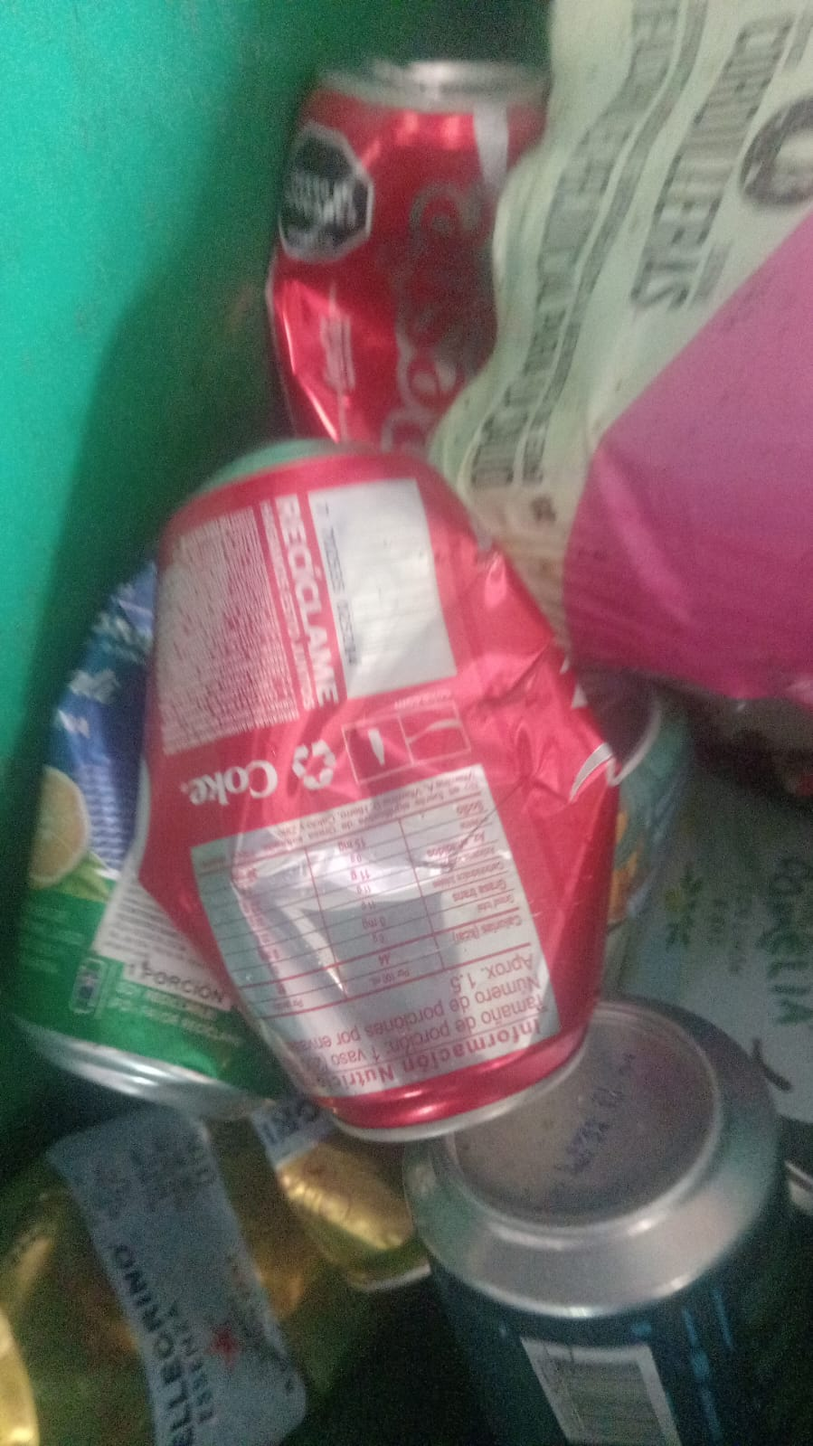Metal: (139, 446, 607, 1141), (407, 994, 809, 1440), (14, 1067, 403, 1446), (272, 56, 569, 444)
